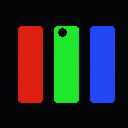0 point: (58, 28, 66, 36)
